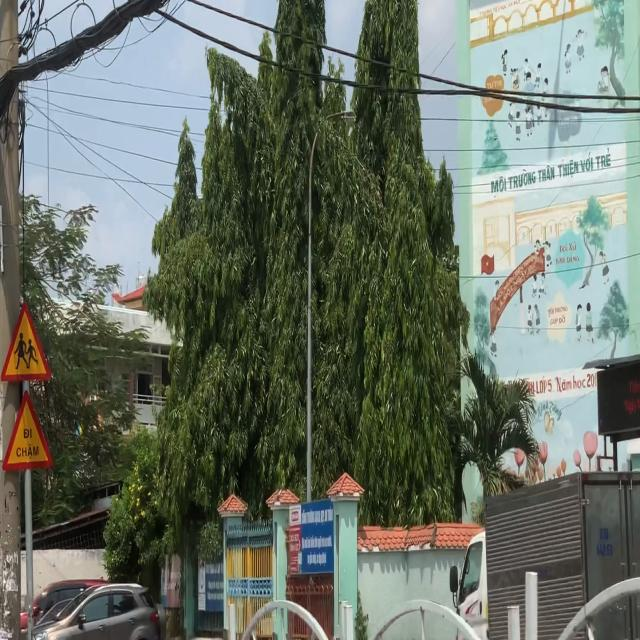Nguy hiem: (1, 390, 54, 472), (0, 298, 51, 381)
